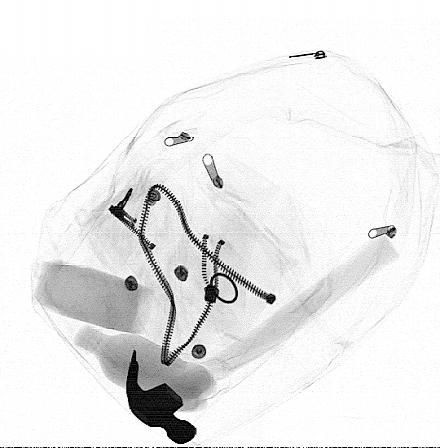Hammer: (126, 230, 400, 445)
